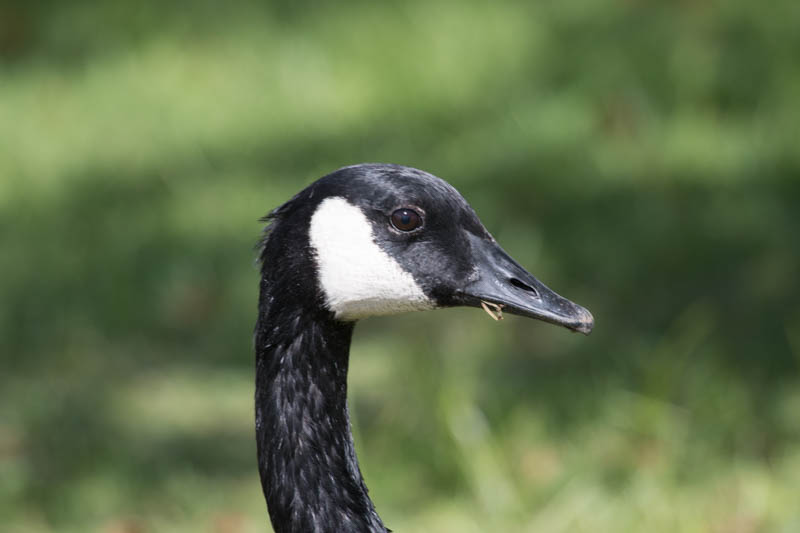goose-head: (258, 162, 596, 334)
